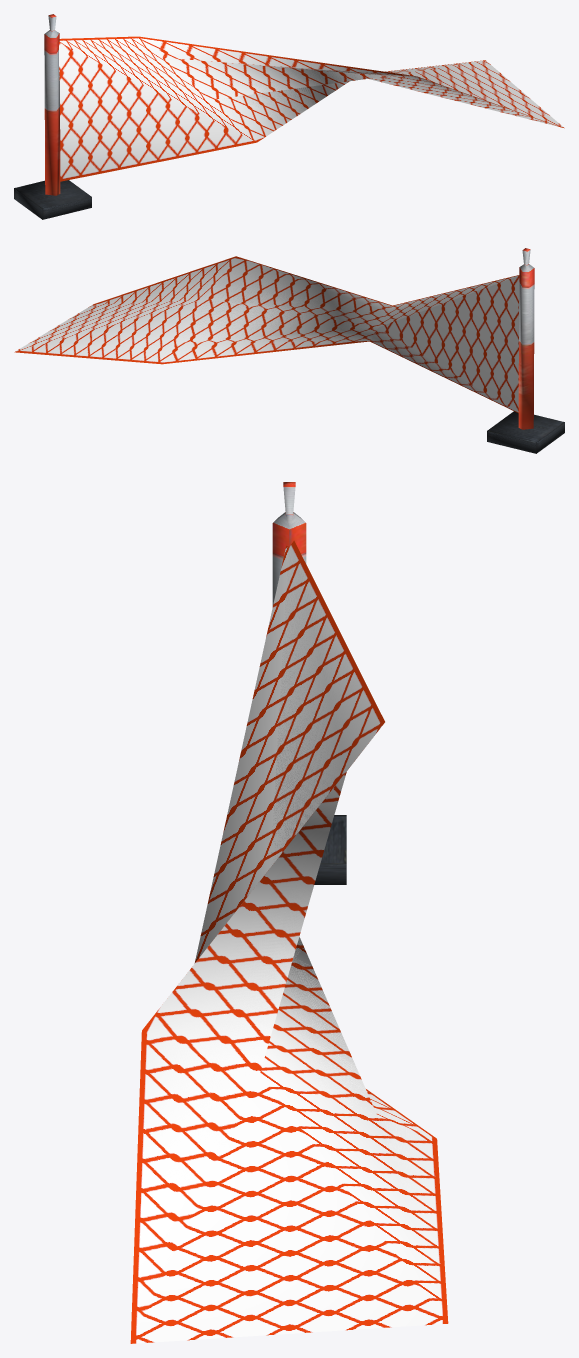
The model's file is orangeFence_fallen_3.fbx.
3 views of the same model, one above another, from view 1: azimuth 30°, elevation 25°; view 2: azimuth 150°, elevation 25°; view 3: azimuth 270°, elevation 25° (orthographic). The views are drawn at different scales.
Parts seen in each view (by area): view 1: Plane, Duplicate00, Cylinder, Box; view 2: Plane, Duplicate00, Cylinder, Box; view 3: Plane, Duplicate00, Cylinder, Box.
Part boxes in pixels (x1,y1,x2,y2): Plane: [59, 36, 564, 181]; Duplicate00: [60, 36, 561, 141]; Cylinder: [44, 14, 60, 195]; Box: [14, 180, 91, 219]; Plane: [14, 256, 519, 364]; Duplicate00: [25, 256, 519, 413]; Cylinder: [518, 248, 534, 429]; Box: [487, 411, 564, 453]; Plane: [130, 540, 448, 1343]; Duplicate00: [131, 542, 447, 1340]; Cylinder: [272, 482, 306, 606]; Box: [314, 815, 346, 884].
Bounding box in the file's own units: 301 × 115 × 83.3.
